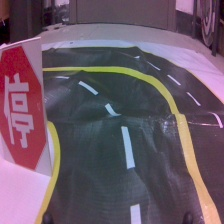stop: (1, 37, 53, 178)
